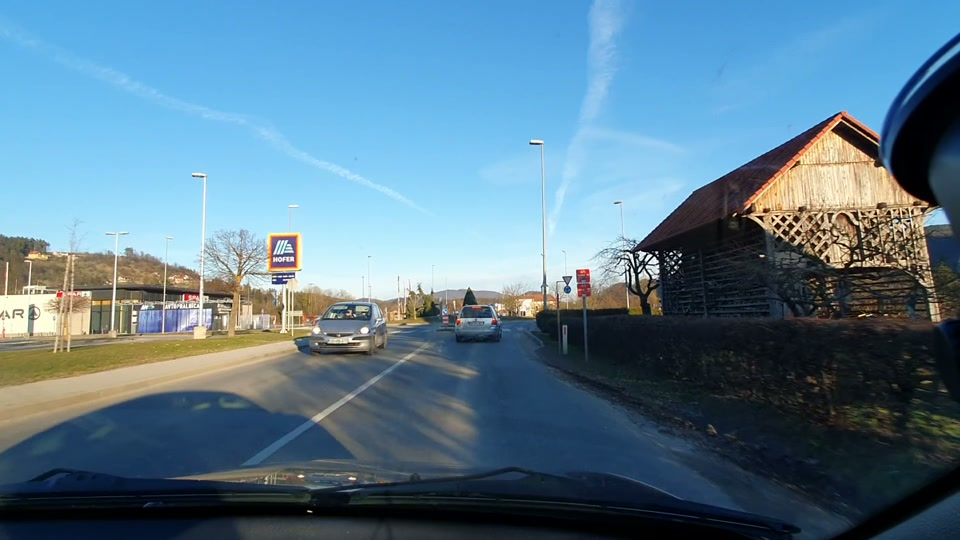vehicle_ign: (453, 301, 503, 340)
vehicle_s: (304, 300, 390, 360)
